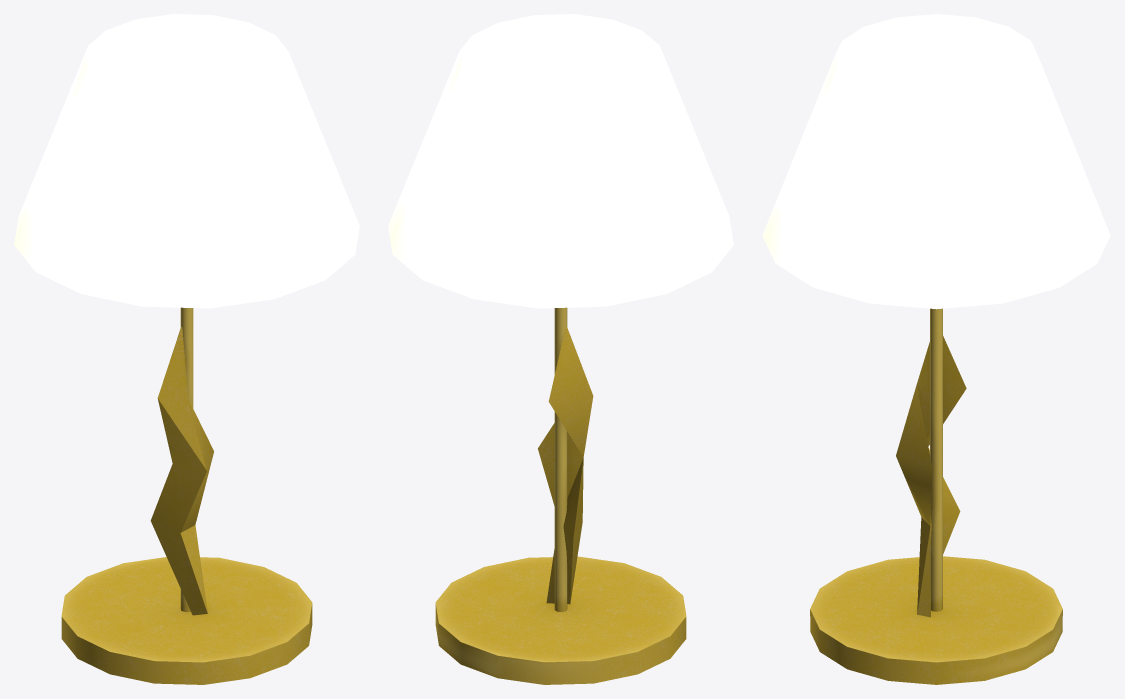
The model's file is Lamp02.fbx.
3 renders of one model, left to right at view 1: azimuth 30°, elevation 25°; view 2: azimuth 150°, elevation 25°; view 3: azimuth 270°, elevation 25°, orthographic.
Parts seen in each view (by area): view 1: Lamp02; view 2: Lamp02; view 3: Lamp02.
Boxes of the visible parts, x1,y1,x2,y2 form: Lamp02: (14,14,359,684); Lamp02: (388,14,733,684); Lamp02: (762,14,1110,684).
Bounding box in the file's own units: 3.13 × 5.7 × 3.13.
Materials: 1 (1 with a texture image).
